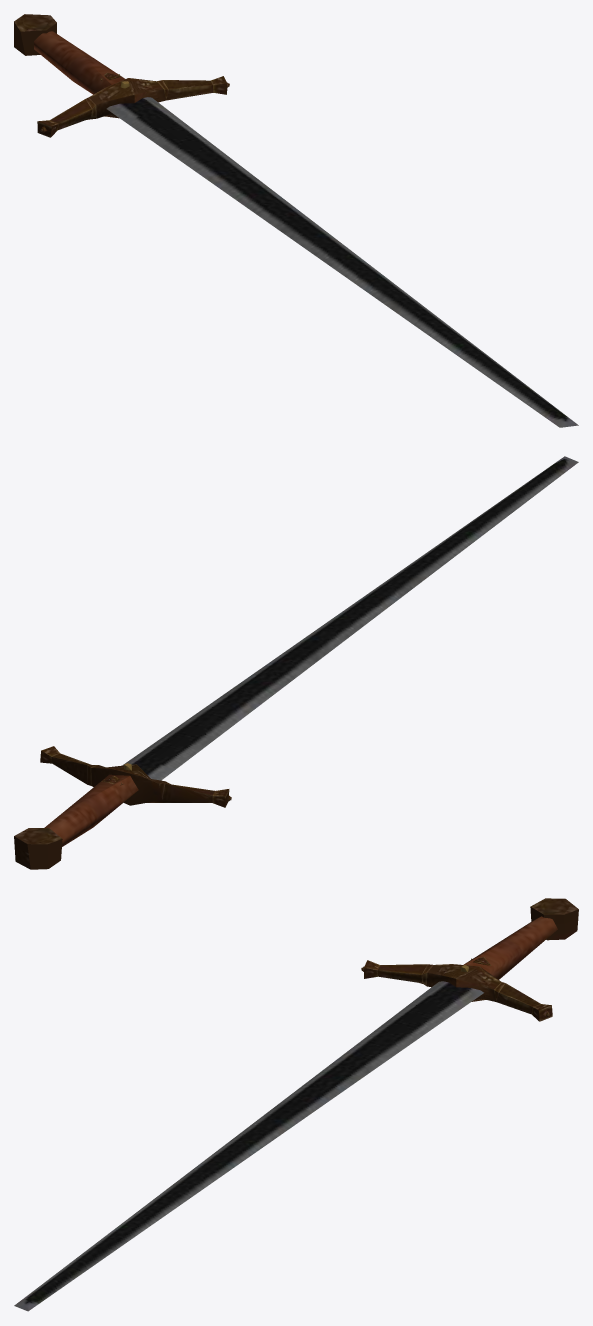
Rendered from longsword.glb.
3 views of the same model, one above another, from view 1: azimuth 30°, elevation 25°; view 2: azimuth 150°, elevation 25°; view 3: azimuth 330°, elevation 25° (orthographic).
Visible parts, largest first — view 1: Longsword; view 2: Longsword; view 3: Longsword.
Boxes of the visible parts, x1,y1,x2,y2 form: Longsword: (14, 14, 578, 427); Longsword: (14, 456, 578, 869); Longsword: (14, 898, 578, 1311).
Bounding box in the file's own units: 1.13 × 0.209 × 5.67.
Materials: 1 (1 with a texture image).
